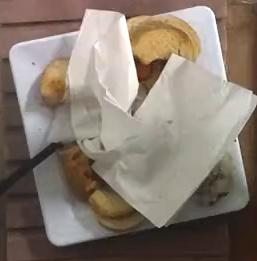bread_crust: (127, 15, 200, 64)
pizza_crust: (61, 144, 97, 199)
unknown: (89, 190, 144, 230)
